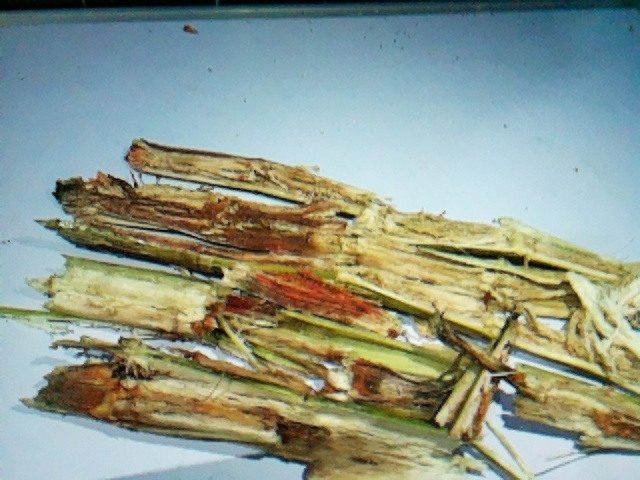Red-Rot: (10, 139, 640, 478)
